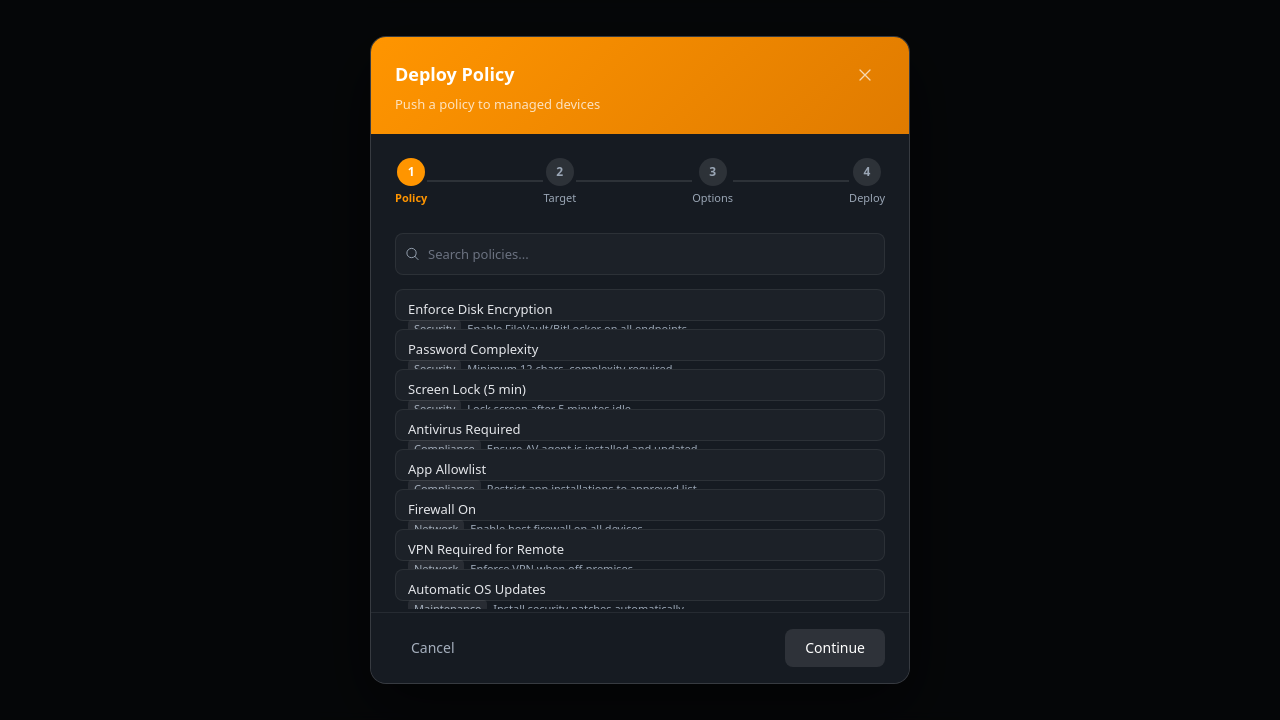
Test: PolicyDeployWizard › Continue enabled after selecting a policy
Click the text "Enforce Disk Encryption" at (480, 309), box [408,300,552,318]
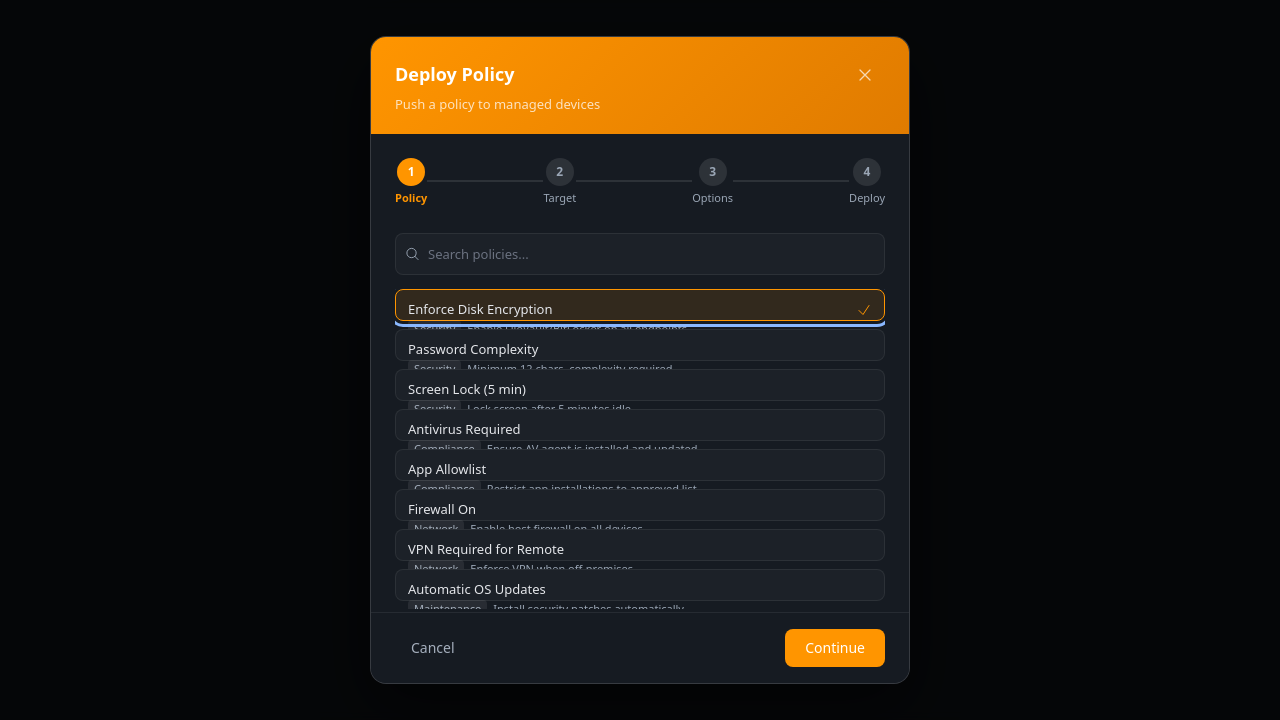
Check: the button "Continue" is enabled, box [785,629,885,667]
